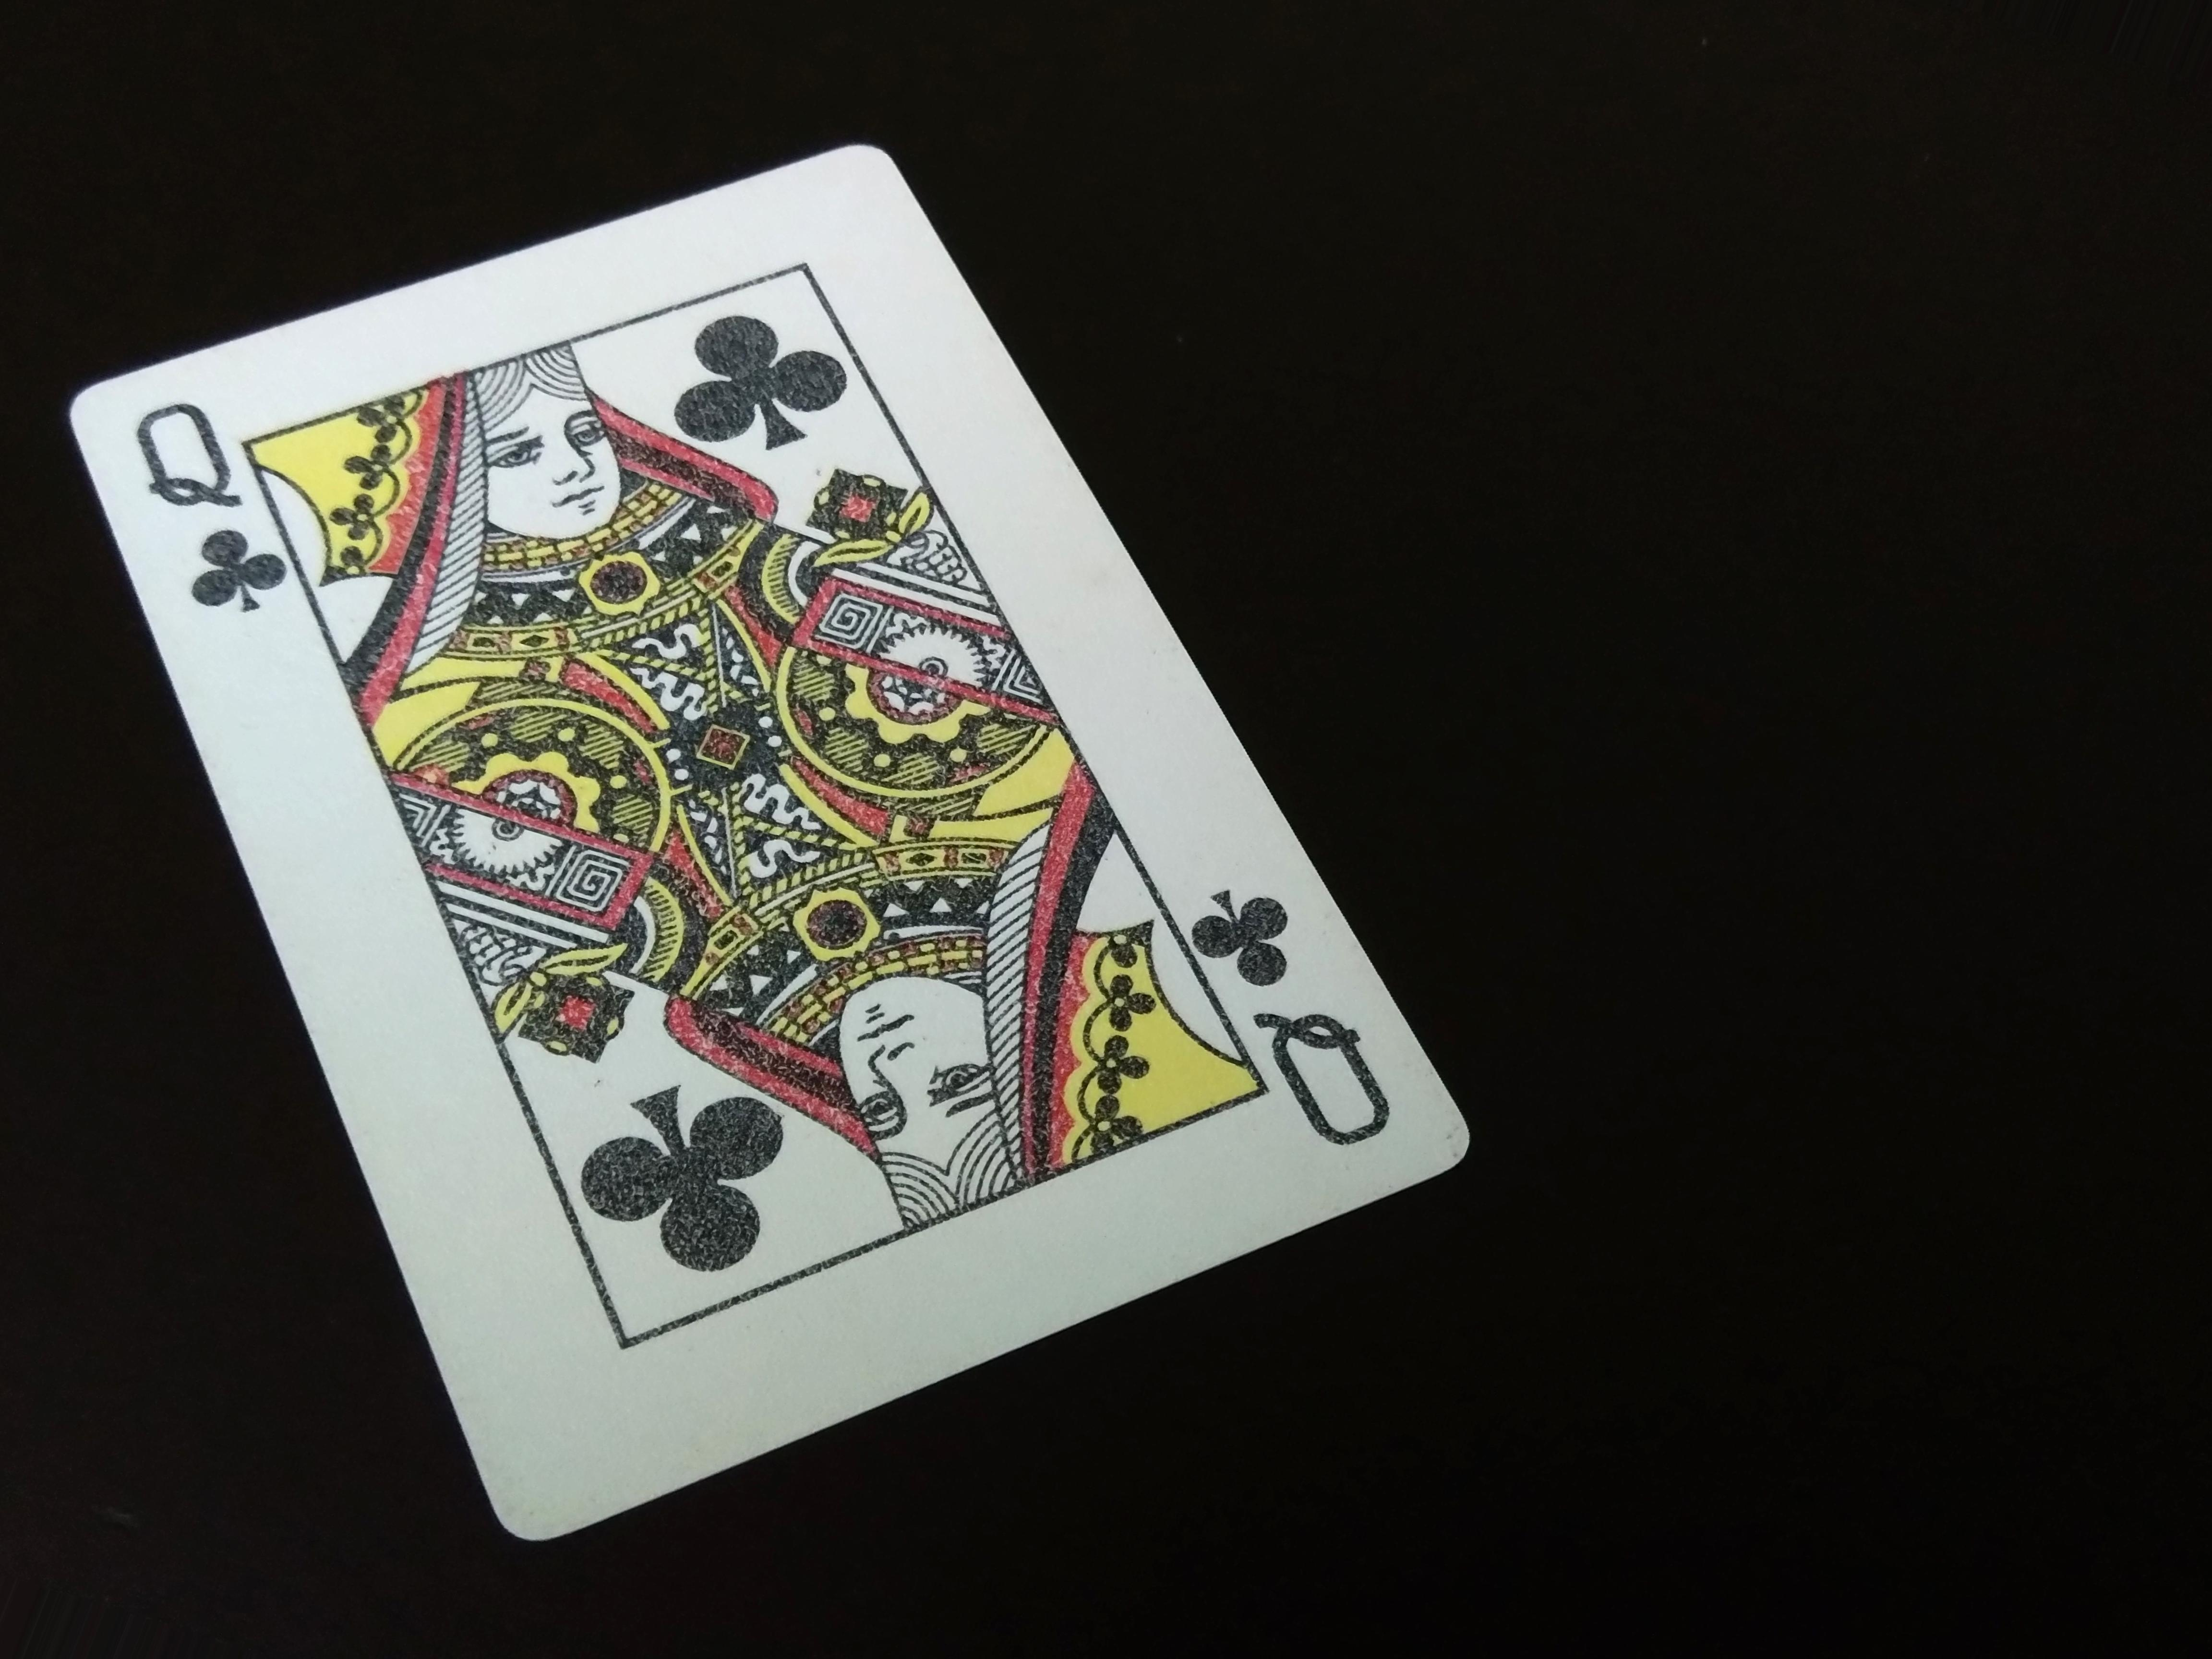QC: (1179, 859, 1404, 1157)
